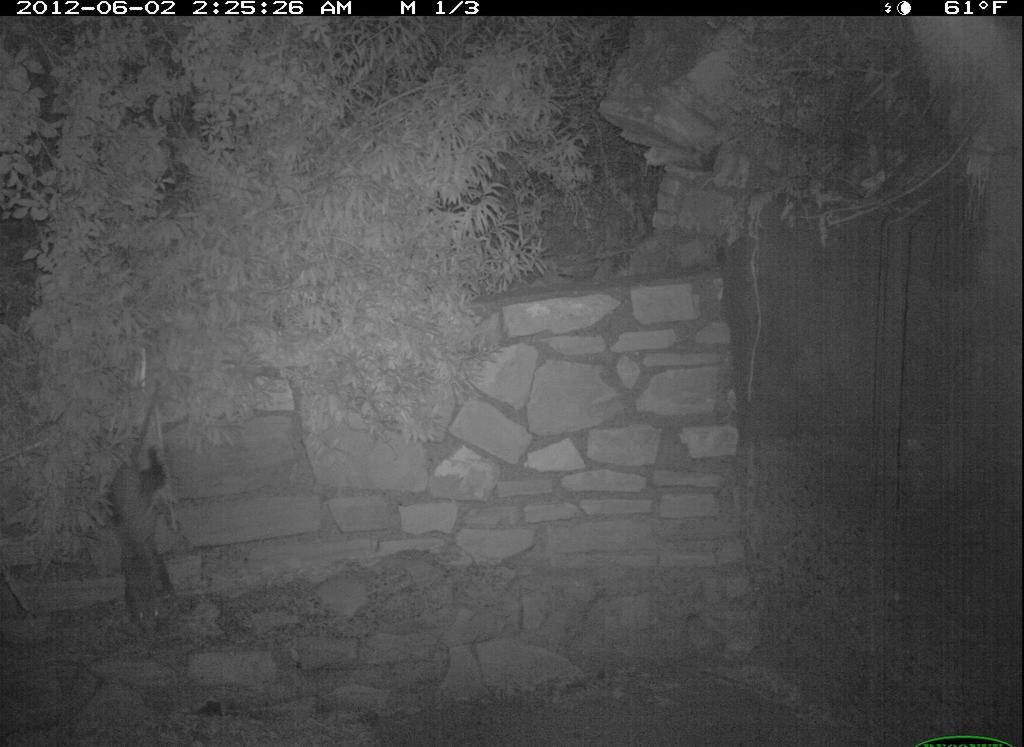opossum: (91, 434, 203, 661)
